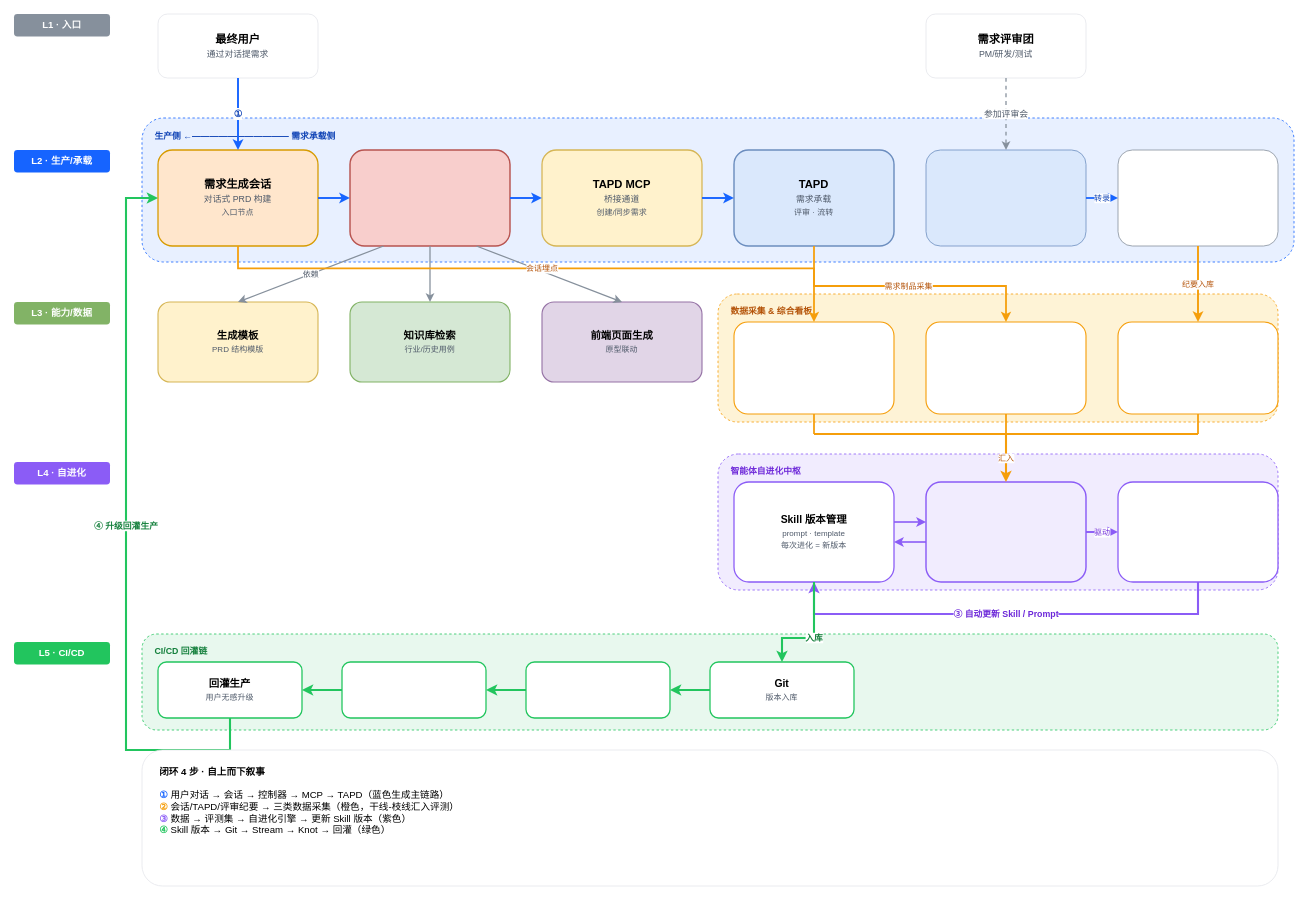
The diagram is 1308 pixels wide and 900 high, and some of its shapes have lost their labels. The shapes that lost their labels are listed below. From the top down, each one's centre as x and y in pixels, then its label:
At point 429,197: "生产流程控制器 编排 · 调度 上下文管理".
At point 1005,197: "腾讯会议 评审会·自动转录".
At point 1197,197: "评审纪要.txt 结构化转录文本".
At point 813,367: "用户使用数据 会话流转 · 修订 来源 ← 会话".
At point 1005,367: "需求制品数据 PRD · 异常环节 来源 ← TAPD".
At point 1197,367: "评审转录数据 分歧 · 改动建议 来源 ← 评审纪要".
At point 1005,531: "评测数据集 异常环节 → case 人工 + 自动标注".
At point 1197,531: "智能分析 & 自进化引擎 LLM-as-Judge Auto-Eval".
At point 413,689: "Knot 包 构建产物".
At point 597,689: "Stream CI master 合并触发".
